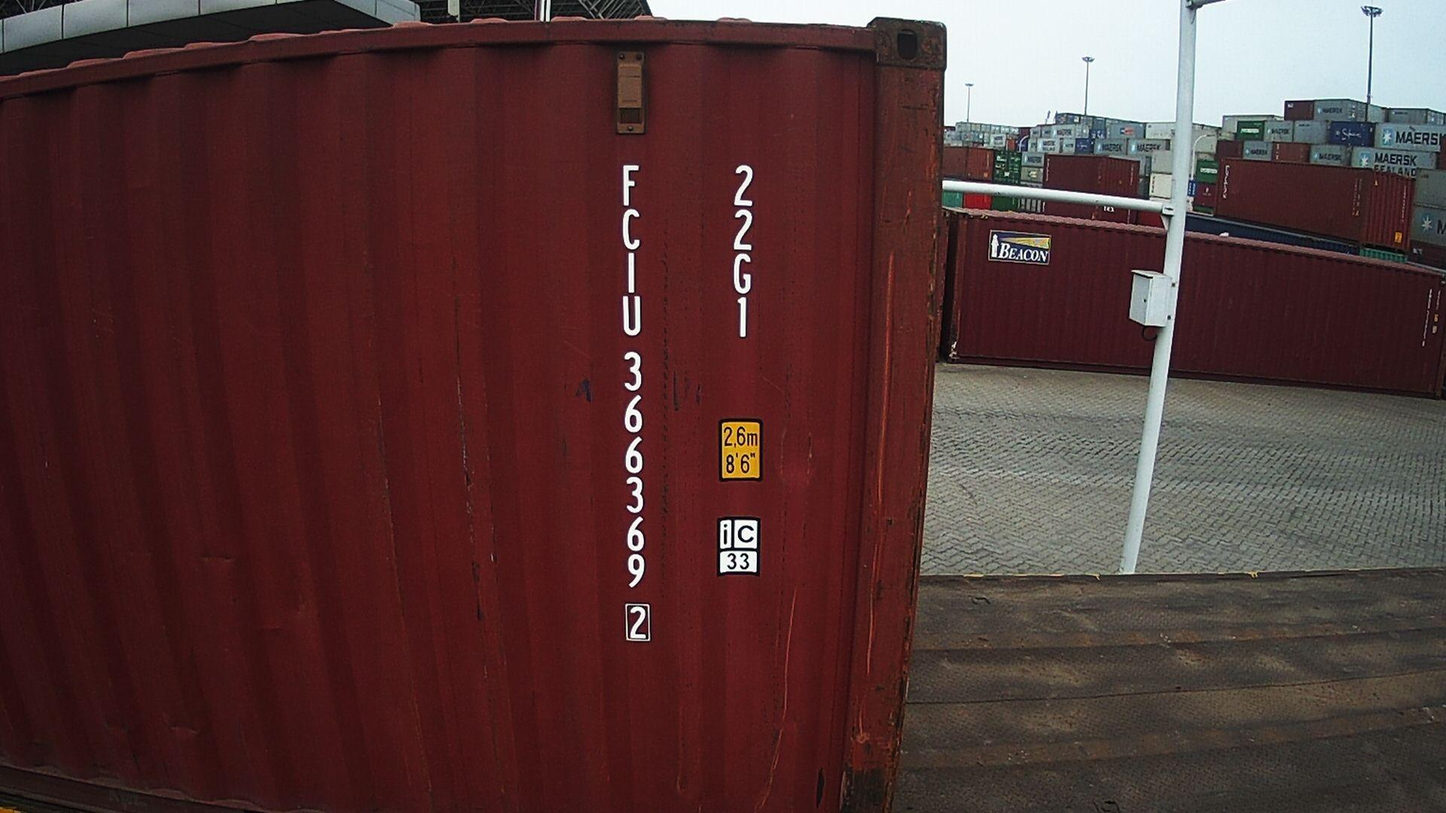container-numbers: (614, 155, 658, 648), (722, 161, 762, 346)
